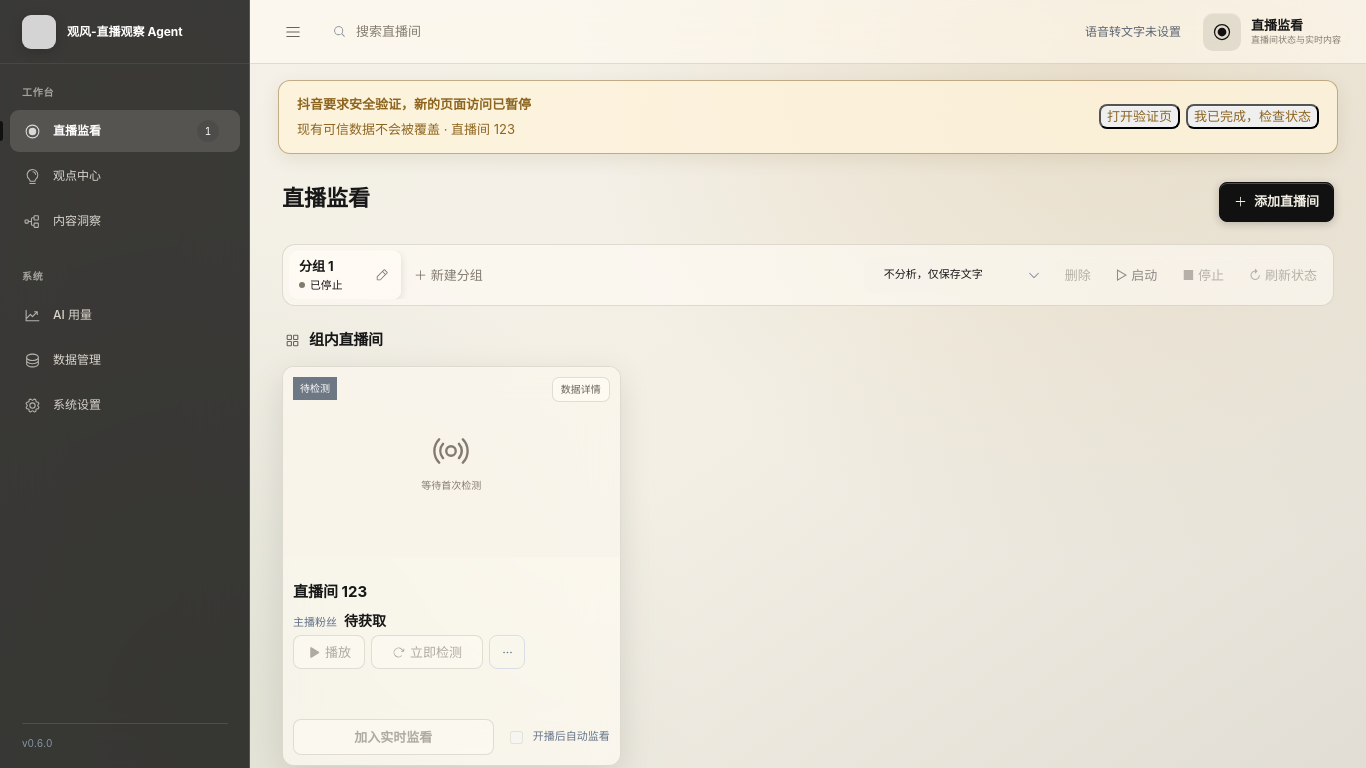
Test case: room form › shows a successful verification check and the recovery action
This screenshot has width=1366, height=768.
What coordinates should you click on to do the following:
click the button "我已完成，检查状态"
I would click on:
 (1252, 117)
Its box is [1186,104,1319,129].
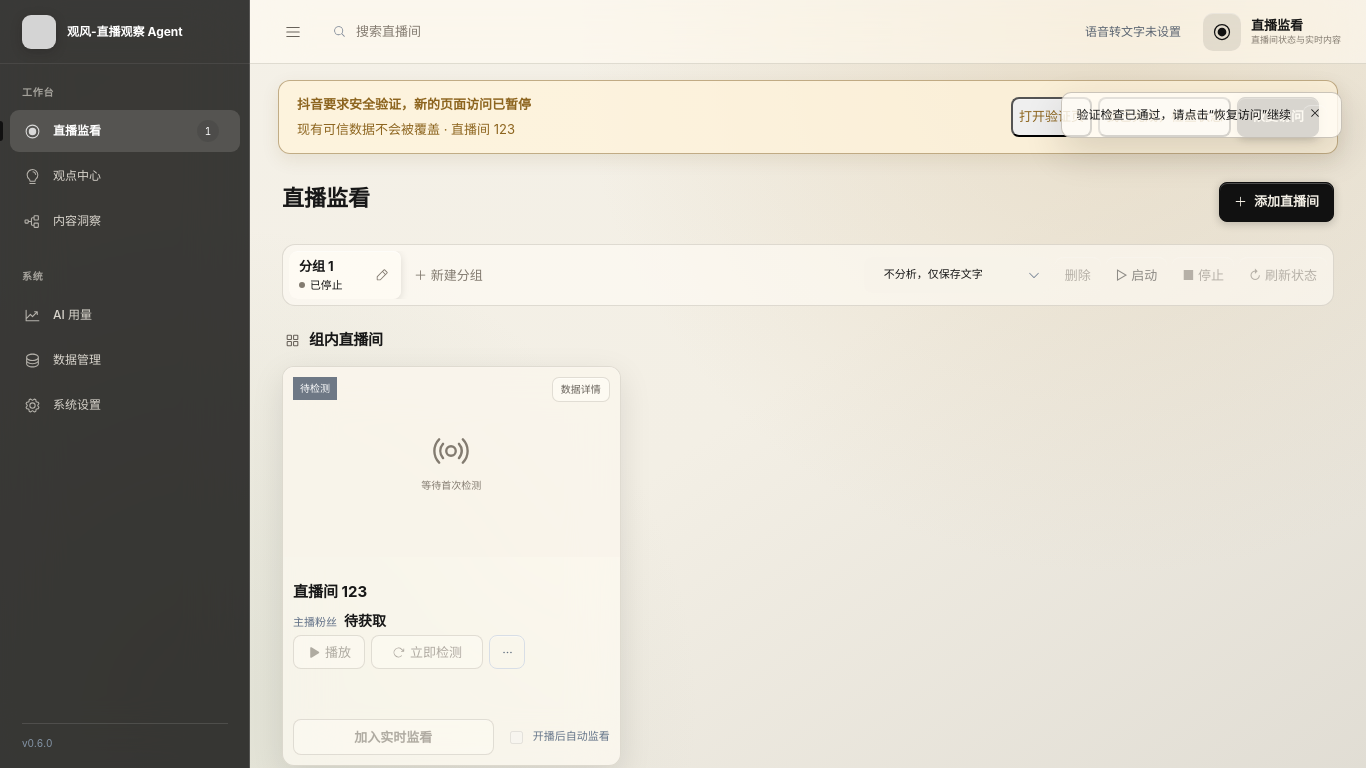
Result: the text "验证检查已通过，请点击“恢复访问”继续" is shown at [1061,92,1342,138]
Result: the button "恢复访问" is shown at [1237,97,1319,137]
